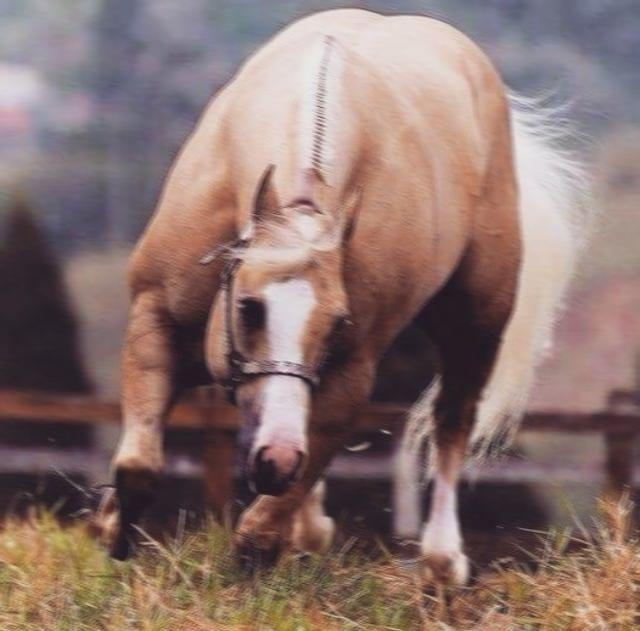horse: (96, 5, 604, 611)
